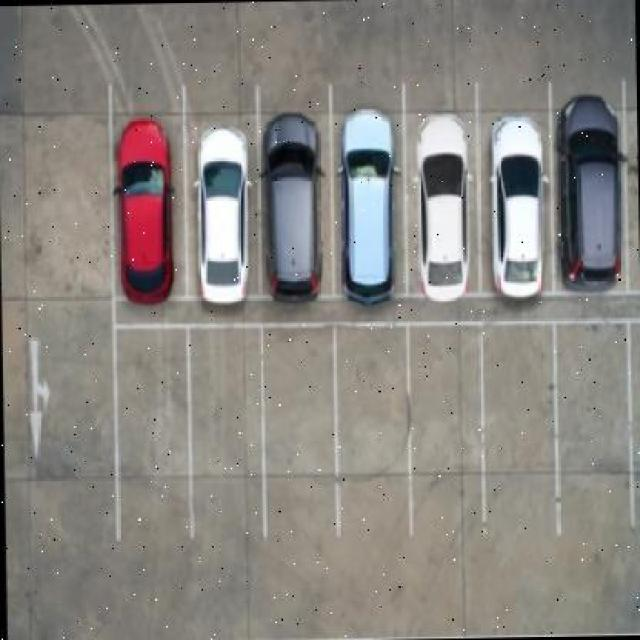Car: (542, 72, 638, 295), (110, 112, 189, 318), (335, 91, 406, 314), (414, 90, 480, 321), (479, 112, 552, 316), (261, 104, 330, 312), (190, 116, 261, 315)
Empty: (549, 331, 630, 560), (190, 332, 264, 546), (484, 334, 553, 560), (418, 330, 486, 552), (120, 329, 187, 540), (269, 327, 335, 541), (341, 329, 409, 536)
